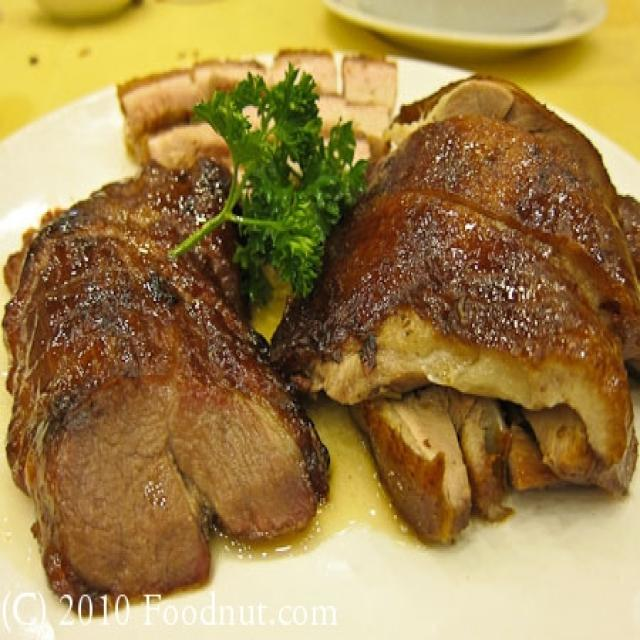烧串烤肉: (11, 53, 628, 604)
